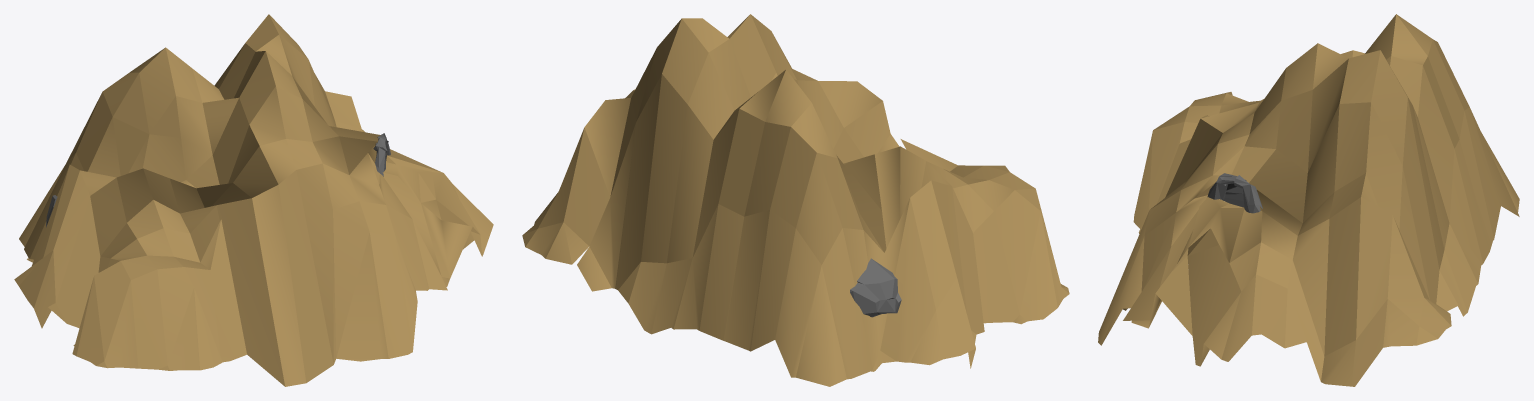
File: CaveMountain.FBX
3 renders of one model, left to right at view 1: azimuth 30°, elevation 25°; view 2: azimuth 150°, elevation 25°; view 3: azimuth 270°, elevation 25°, orthographic. The views are drawn at different scales.
Parts seen in each view (by area): view 1: Hill_Dirt_01, Cave_Dirt_002; view 2: Hill_Dirt_01, Cave_Dirt_002; view 3: Hill_Dirt_01, Cave_Dirt_002.
Boxes of the visible parts, <box> form: Hill_Dirt_01: <box>14,14,493,386</box>; Cave_Dirt_002: <box>46,133,390,227</box>; Hill_Dirt_01: <box>522,14,1069,386</box>; Cave_Dirt_002: <box>850,258,901,317</box>; Hill_Dirt_01: <box>1098,14,1519,386</box>; Cave_Dirt_002: <box>1207,173,1262,213</box>.
Bounding box in the file's own units: 2144 × 1370 × 1721.
